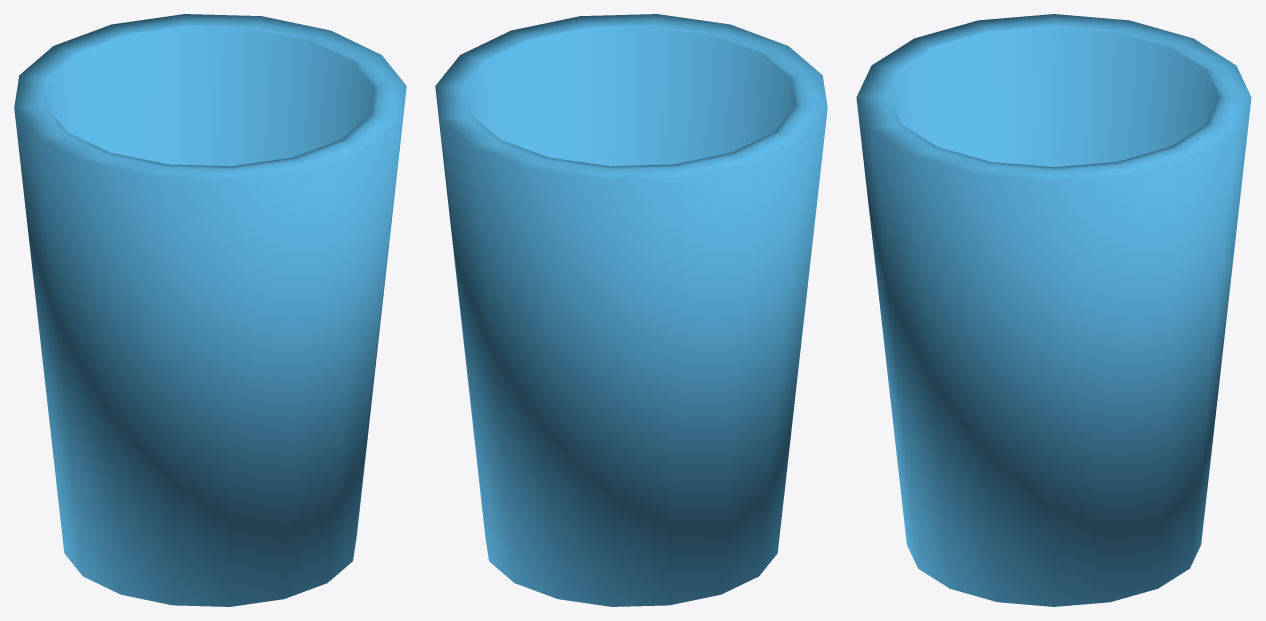
The model's file is glass.fbx.
The picture shows the model from 3 angles, left to right: view 1: azimuth 30°, elevation 25°; view 2: azimuth 150°, elevation 25°; view 3: azimuth 270°, elevation 25°; orthographic projection.
Parts seen in each view (by area): view 1: Glass; view 2: Glass; view 3: Glass.
Part boxes in pixels (x1,y1,x2,y2): Glass: (14,14,406,606); Glass: (435,14,827,606); Glass: (856,14,1251,606).
Size of the model in its own units: 0.1083 by 0.1353 by 0.1083.
